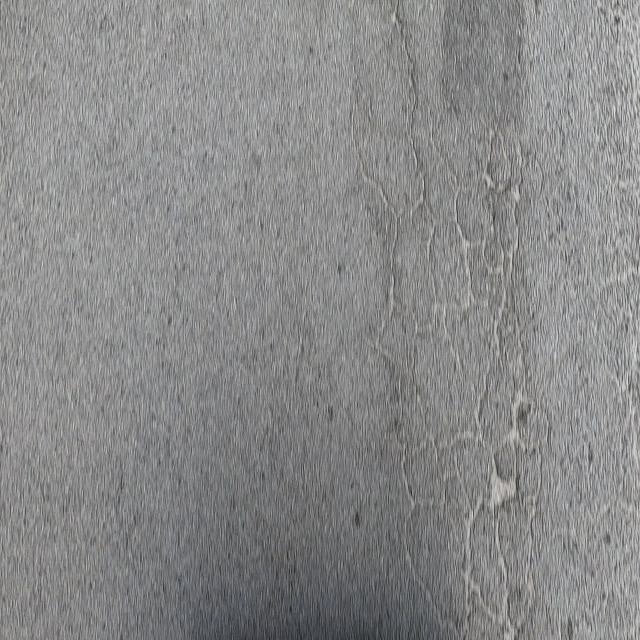Retak-Buaya: (363, 5, 557, 640)
